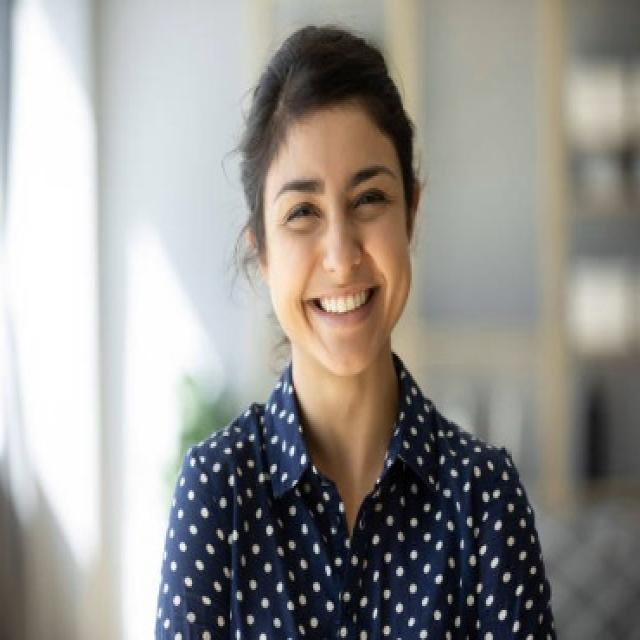adult: (154, 12, 550, 640)
